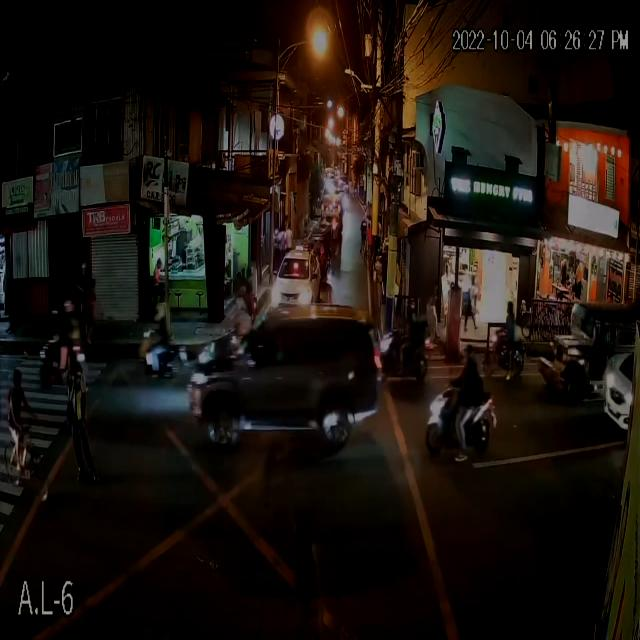Full-Faced: (459, 343, 477, 366), (505, 296, 514, 319)
